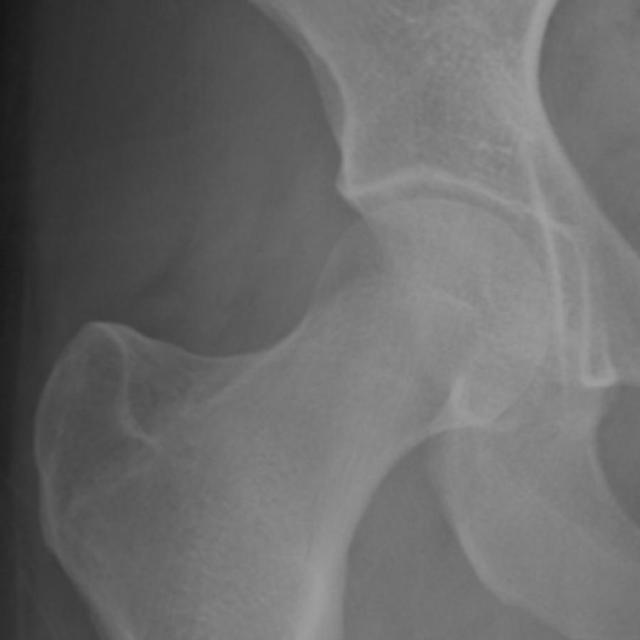Fitted_femural_head: (235, 201, 432, 235)
